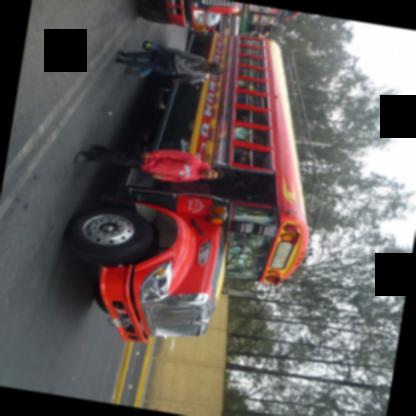handbag: (171, 73, 206, 84), (140, 41, 164, 52)
